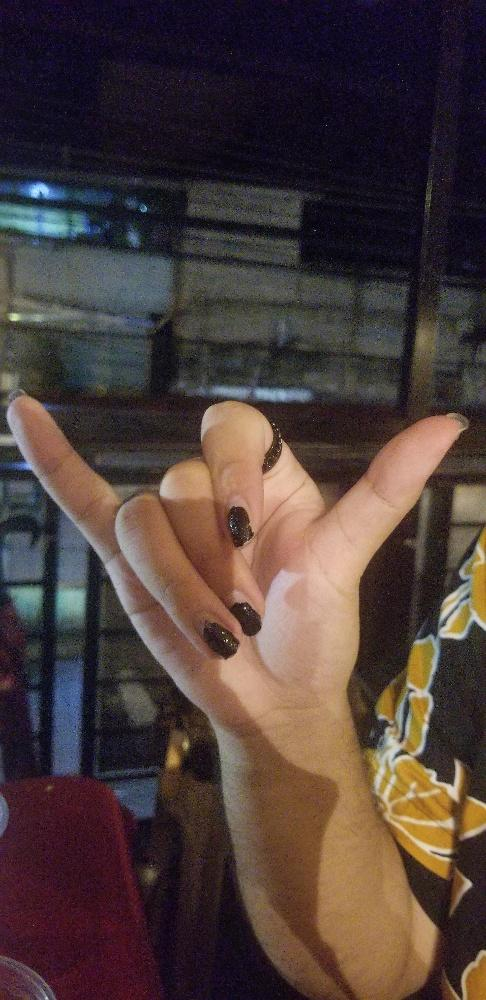y: (2, 371, 469, 704)
